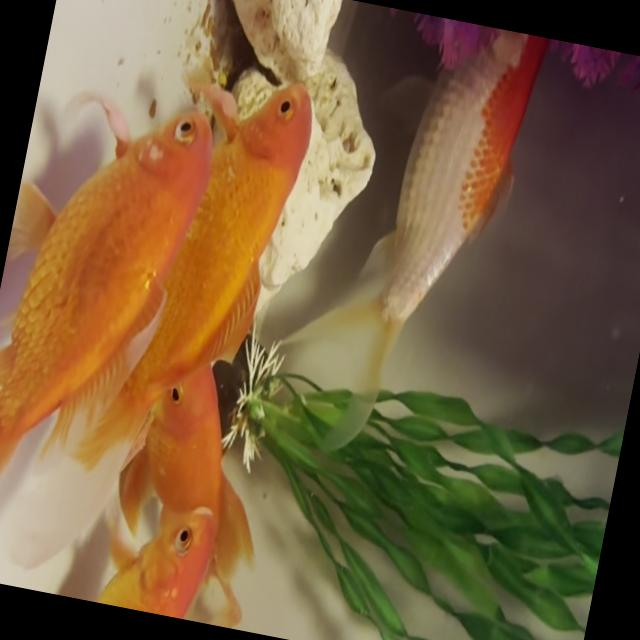fish: (0, 60, 256, 510), (309, 8, 562, 452), (154, 42, 373, 430), (98, 341, 291, 630), (52, 472, 226, 623)
